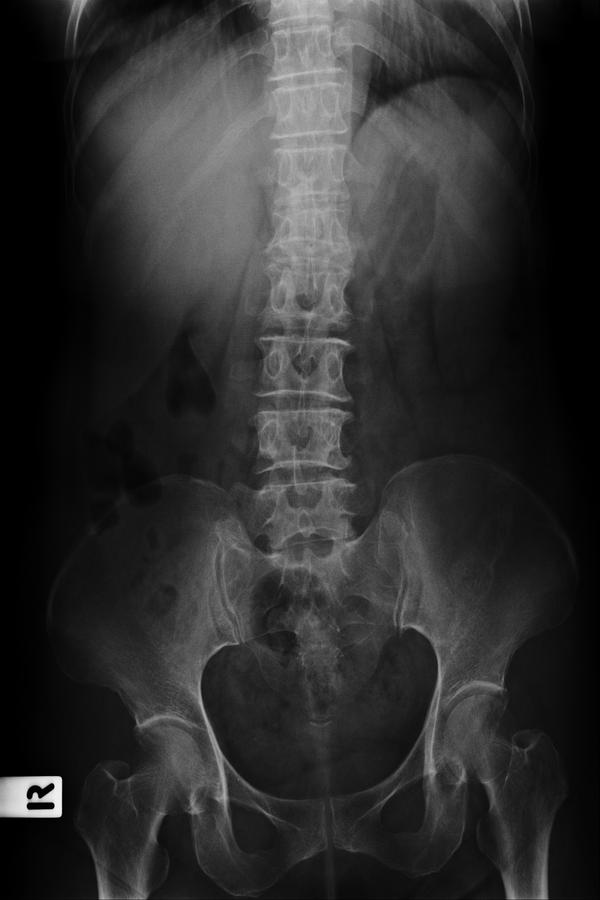lumbar scoliosis: (234, 107, 382, 553)
